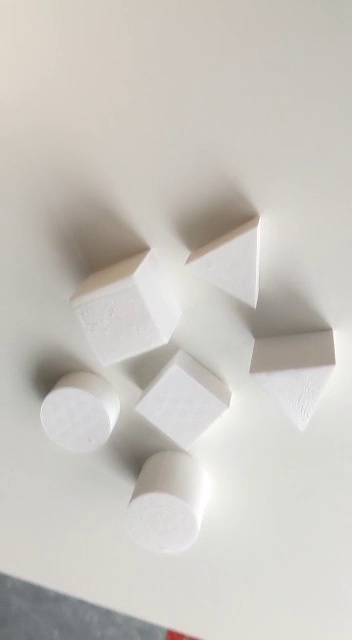Clyinder_short: (35, 367, 124, 459)
Cube: (65, 246, 187, 371)
Cube_short: (134, 346, 236, 464)
Cylinder: (128, 444, 215, 556)
Triangle: (245, 328, 339, 438)
Triangle_short: (182, 207, 266, 313)
